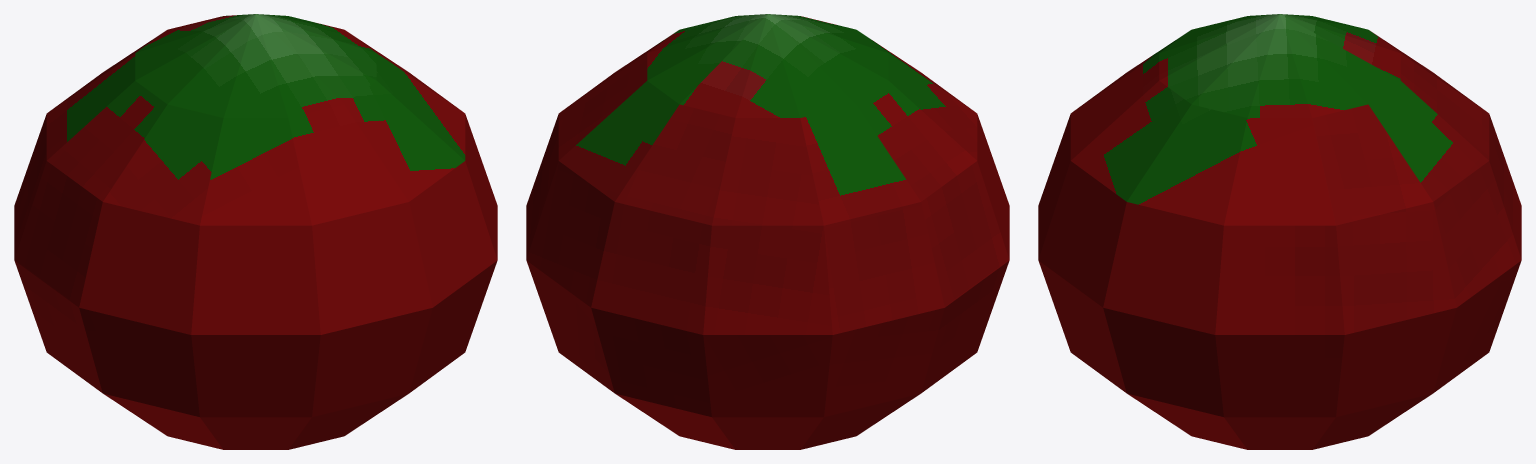
Rendered from tomato.fbx.
3 renders of one model, left to right at view 1: azimuth 30°, elevation 25°; view 2: azimuth 150°, elevation 25°; view 3: azimuth 270°, elevation 25°, orthographic.
Parts seen in each view (by area): view 1: sphere; view 2: sphere; view 3: sphere.
Part boxes in pixels (x1,y1,x2,y2): sphere: [14, 14, 497, 449]; sphere: [526, 14, 1009, 449]; sphere: [1038, 14, 1521, 449].
Size of the model in its own units: 100 by 93.75 by 100.
Materials: 1 (1 with a texture image).
